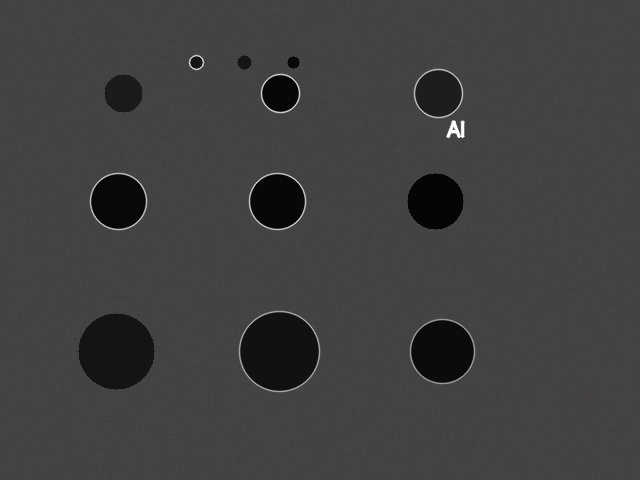hole: (239, 311, 319, 391), (78, 313, 154, 389), (410, 319, 474, 383), (90, 173, 146, 229), (249, 173, 305, 229), (407, 173, 463, 229), (414, 69, 462, 117), (104, 74, 142, 112), (261, 74, 299, 112), (189, 55, 203, 69), (237, 55, 251, 69), (287, 56, 299, 68)
